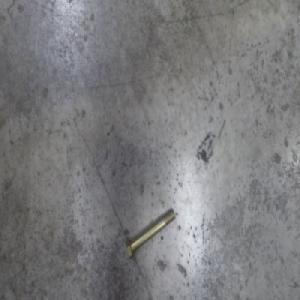Bolt: (126, 205, 176, 263)
